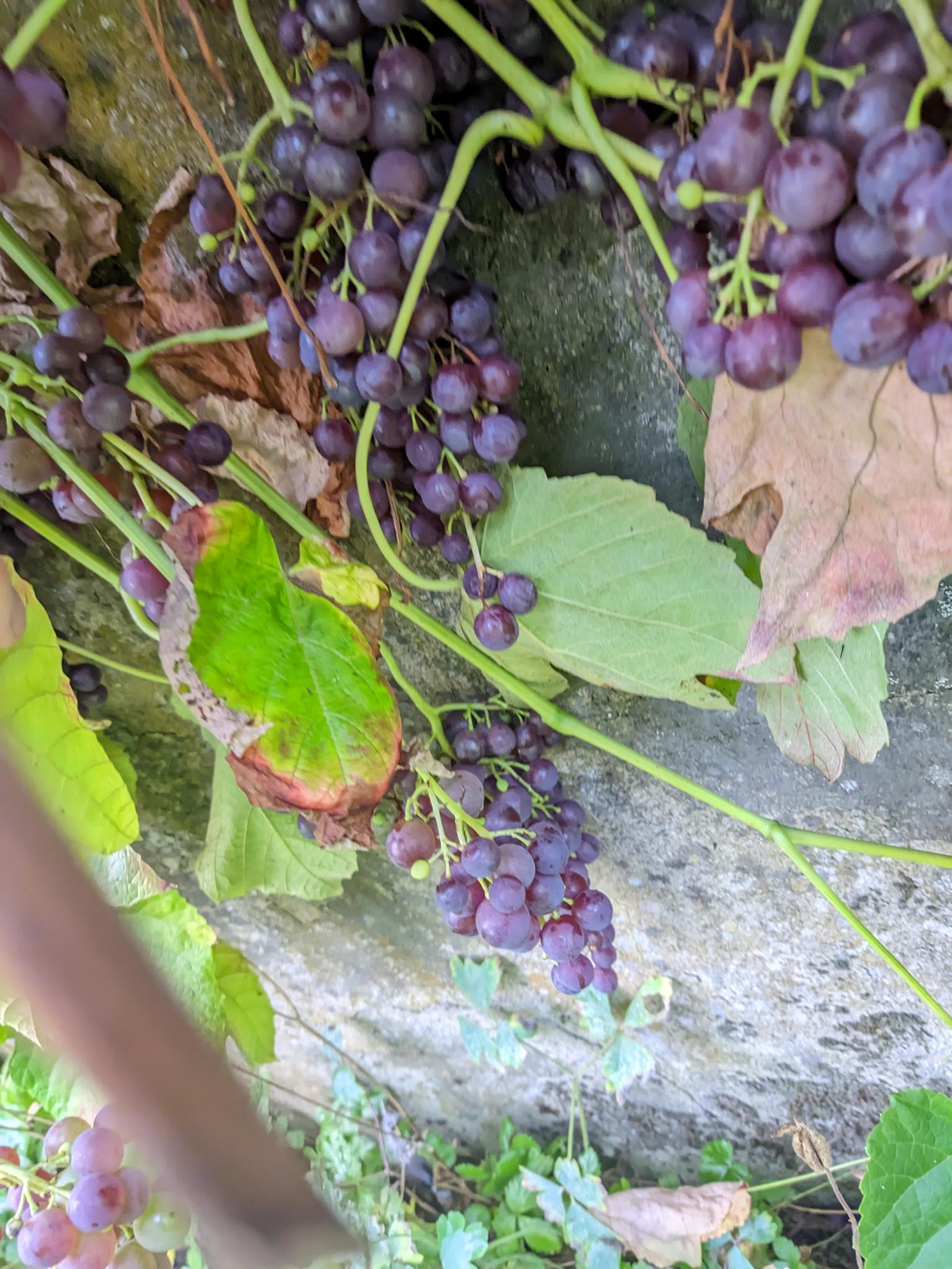Grape Ripe: (218, 0, 538, 651), (656, 0, 952, 394), (0, 305, 232, 626), (384, 709, 619, 992)
